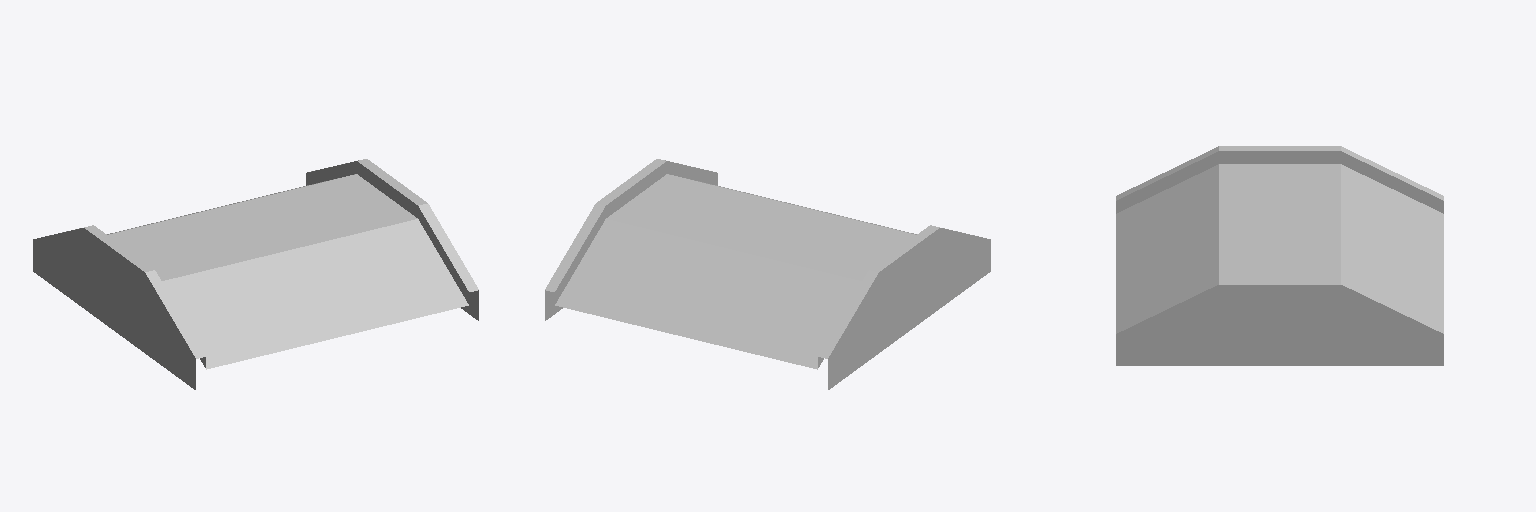
The model's file is straightRamp_B_3x3.obj.
3 views of the same model, side by side, from view 1: azimuth 30°, elevation 25°; view 2: azimuth 150°, elevation 25°; view 3: azimuth 270°, elevation 25° (orthographic).
Parts seen in each view (by area): view 1: straightRamp_B_3x3; view 2: straightRamp_B_3x3; view 3: straightRamp_B_3x3.
Part boxes in pixels (bbox=[...]): straightRamp_B_3x3: bbox=[33, 159, 478, 389]; straightRamp_B_3x3: bbox=[545, 159, 990, 389]; straightRamp_B_3x3: bbox=[1116, 146, 1443, 365].
Size of the model in its own units: 3 by 0.8208 by 3.